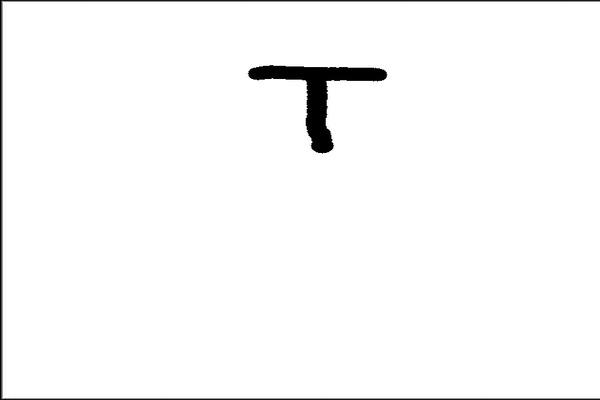T: (244, 55, 398, 158)
